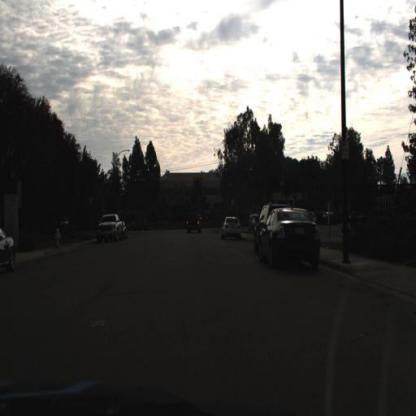car: (259, 206, 324, 272), (259, 209, 326, 268), (99, 213, 126, 245), (220, 211, 245, 245), (2, 228, 18, 279), (220, 214, 244, 242), (185, 210, 203, 238), (126, 216, 151, 234)
